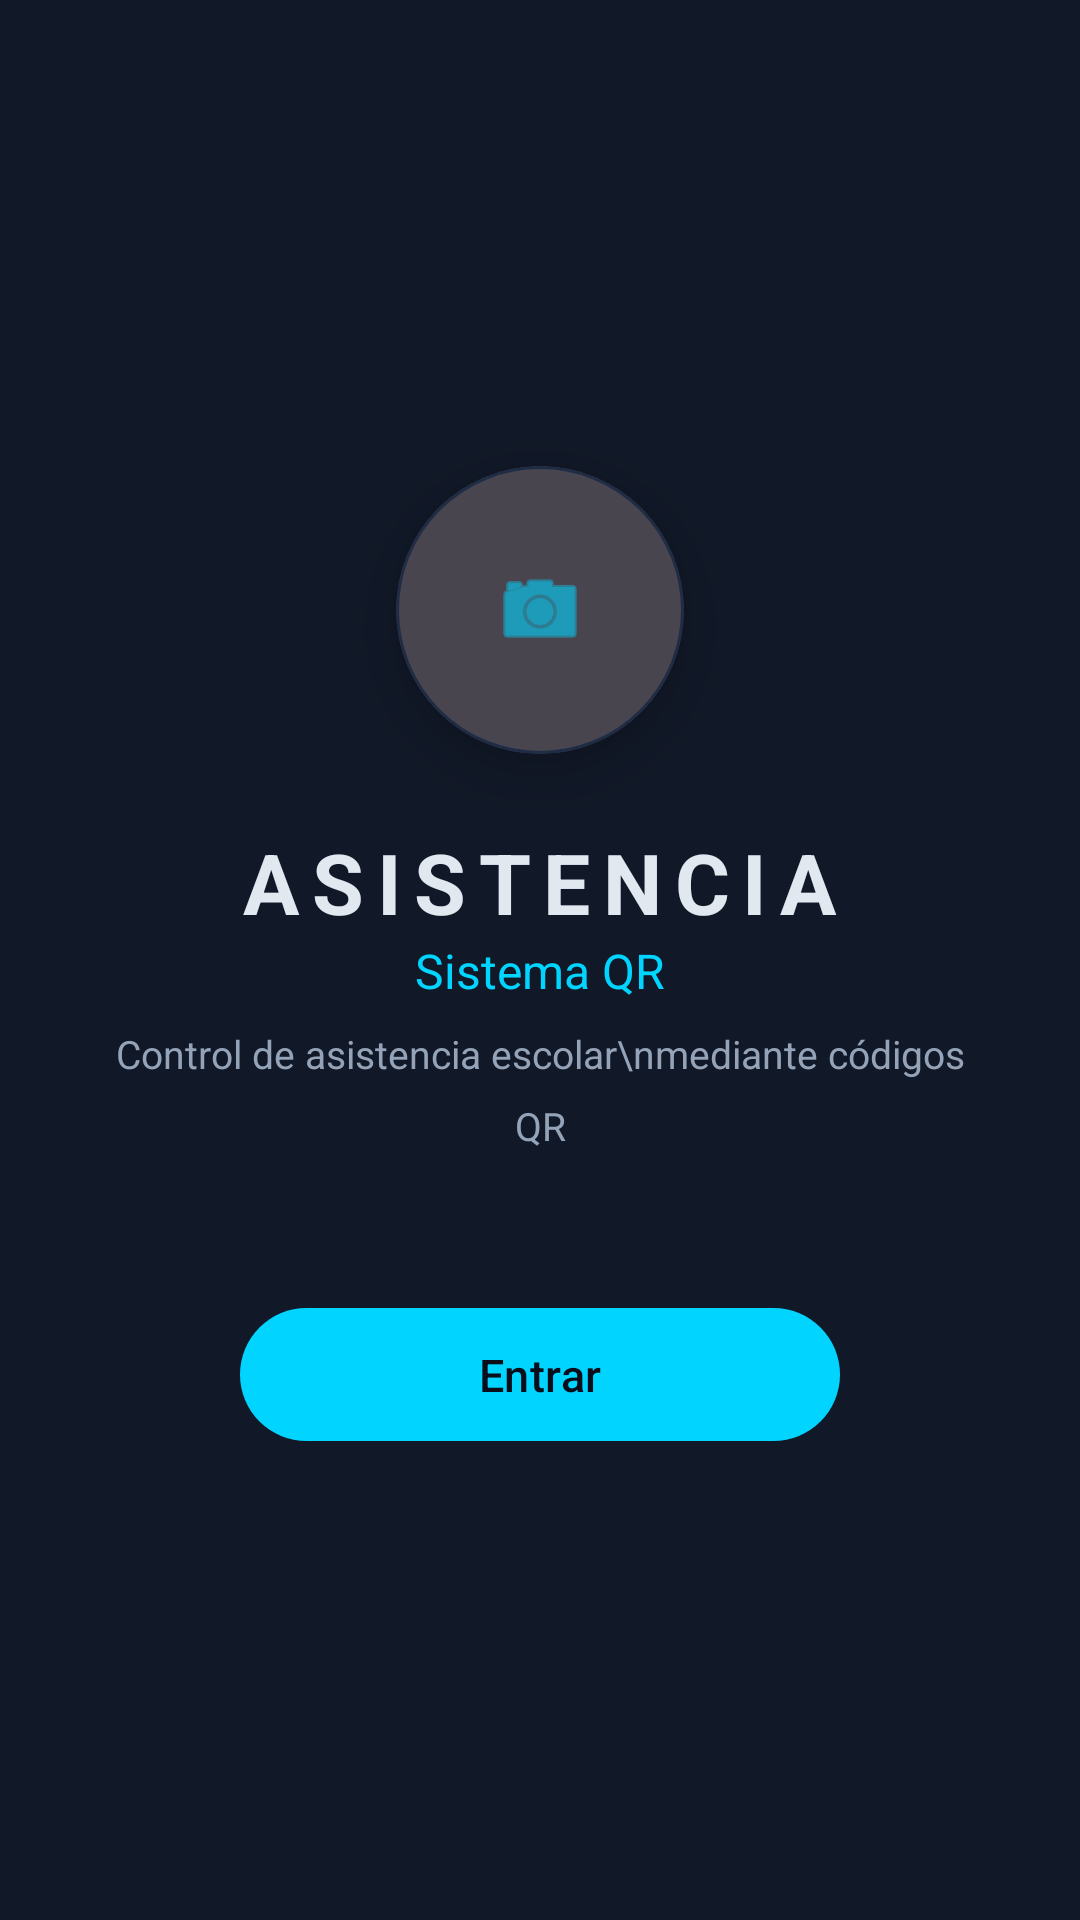

Point at icon controls on the screen. Image size 1080px×1920px, points as point (x, y).
camera: point (540, 610)
